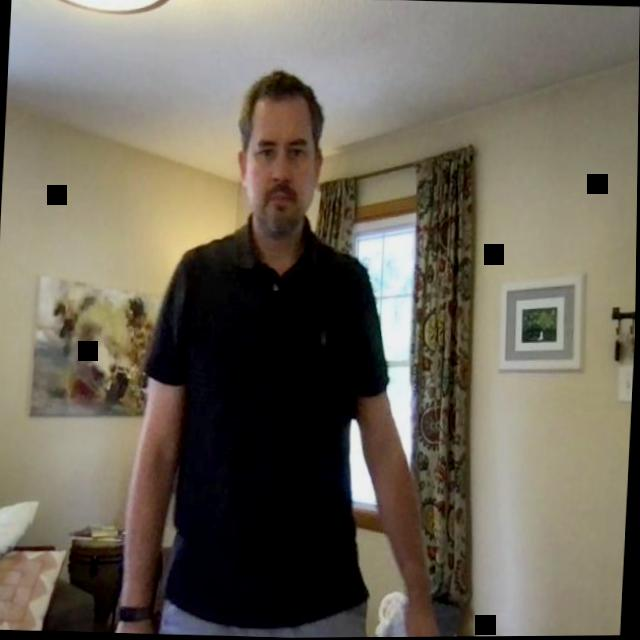NO-Mask: (233, 67, 328, 239)
